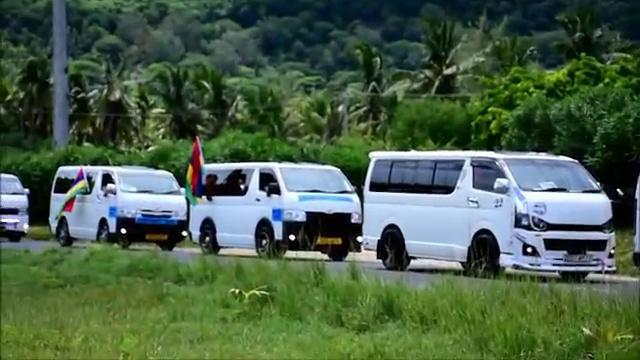Van: (368, 149, 627, 282), (183, 155, 368, 253), (48, 159, 189, 242)
